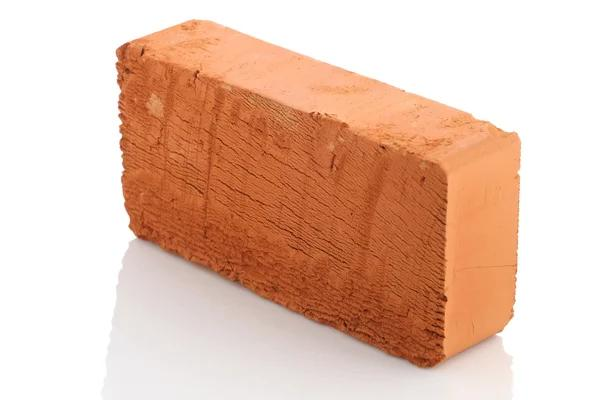Bricks: (114, 20, 522, 371)
